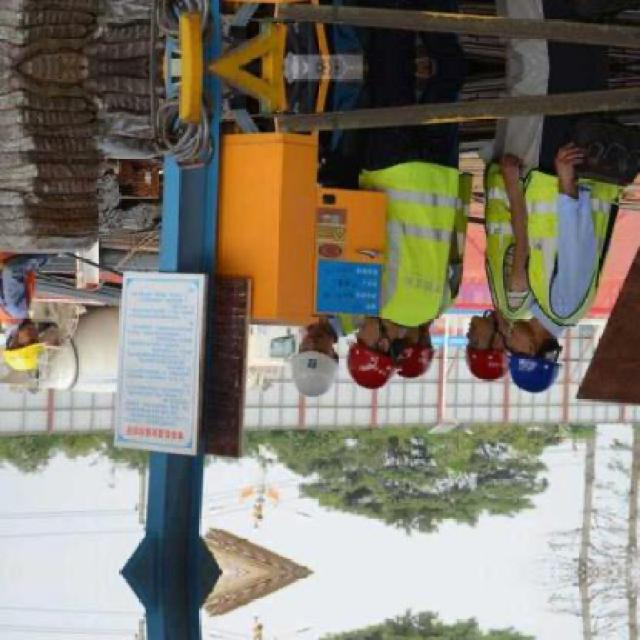con casco: (320, 314, 419, 404), (514, 306, 586, 408), (280, 340, 365, 418), (459, 301, 528, 385), (0, 312, 55, 374)
